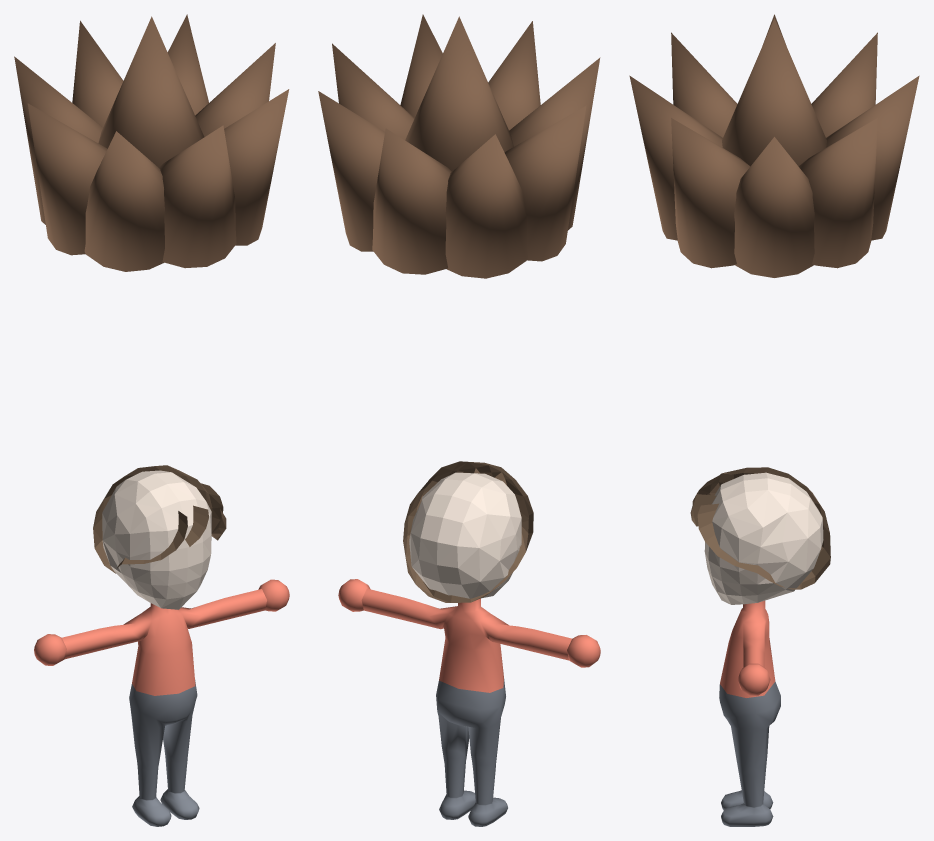
Rendered from fixed_mii.glb.
3 renders of one model, left to right at view 1: azimuth 30°, elevation 25°; view 2: azimuth 150°, elevation 25°; view 3: azimuth 270°, elevation 25°, orthographic. The views are drawn at different scales.
Visible parts, largest first — view 1: OC_Hair_Spiky, head-default-blank, shirt, pants, hair-default-mii; view 2: OC_Hair_Spiky, head-default-blank, shirt, pants, hair-default-mii; view 3: OC_Hair_Spiky, head-default-blank, pants, shirt, hair-default-mii.
Boxes of the visible parts, left/top/right/bottom form: OC_Hair_Spiky: left=14, top=14, right=289, bottom=271; head-default-blank: left=102, top=470, right=211, bottom=609; shirt: left=34, top=579, right=289, bottom=695; pants: left=129, top=680, right=199, bottom=826; hair-default-mii: left=93, top=465, right=226, bottom=573; OC_Hair_Spiky: left=318, top=14, right=600, bottom=278; head-default-blank: left=409, top=472, right=521, bottom=598; shirt: left=338, top=579, right=600, bottom=692; pants: left=436, top=679, right=507, bottom=826; hair-default-mii: left=403, top=461, right=533, bottom=602; OC_Hair_Spiky: left=629, top=14, right=919, bottom=277; head-default-blank: left=704, top=472, right=823, bottom=604; pants: left=719, top=681, right=780, bottom=826; shirt: left=720, top=600, right=775, bottom=697; hair-default-mii: left=690, top=467, right=830, bottom=589.
Bounding box in the file's own units: 1.44 × 4.3 × 1.42.
